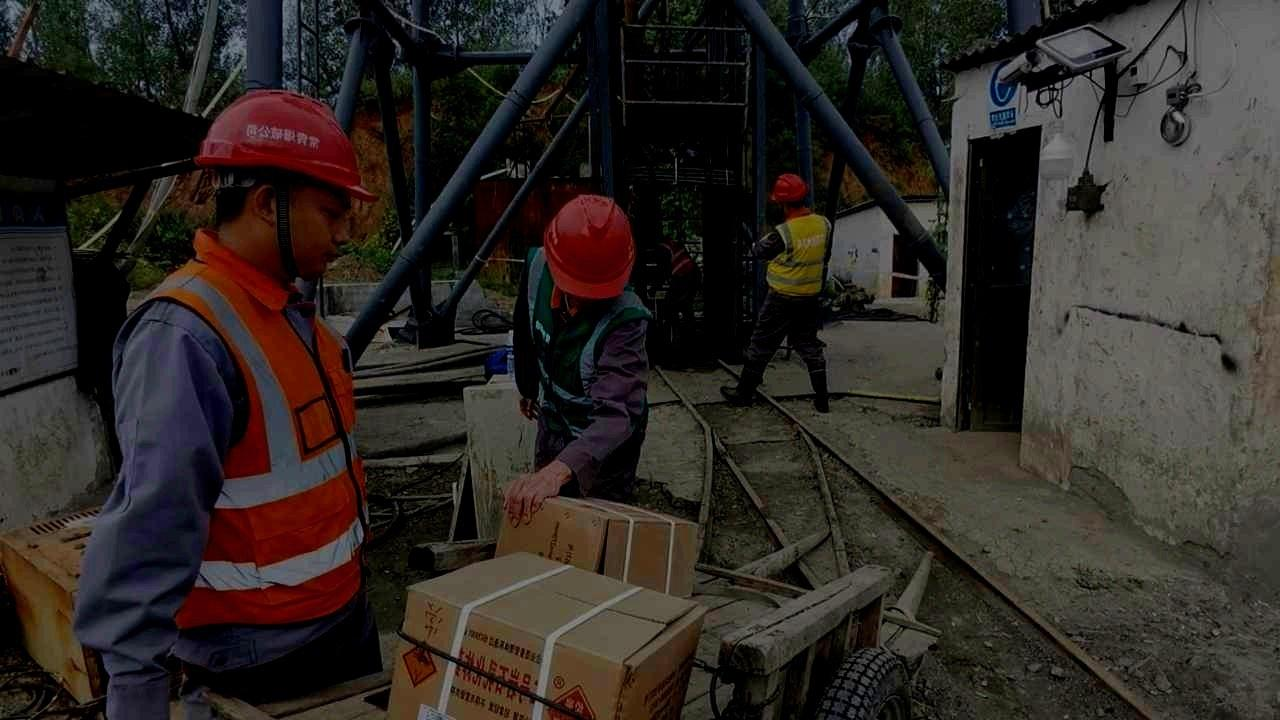helmet: (194, 89, 382, 281), (543, 193, 638, 312), (770, 173, 811, 217)
